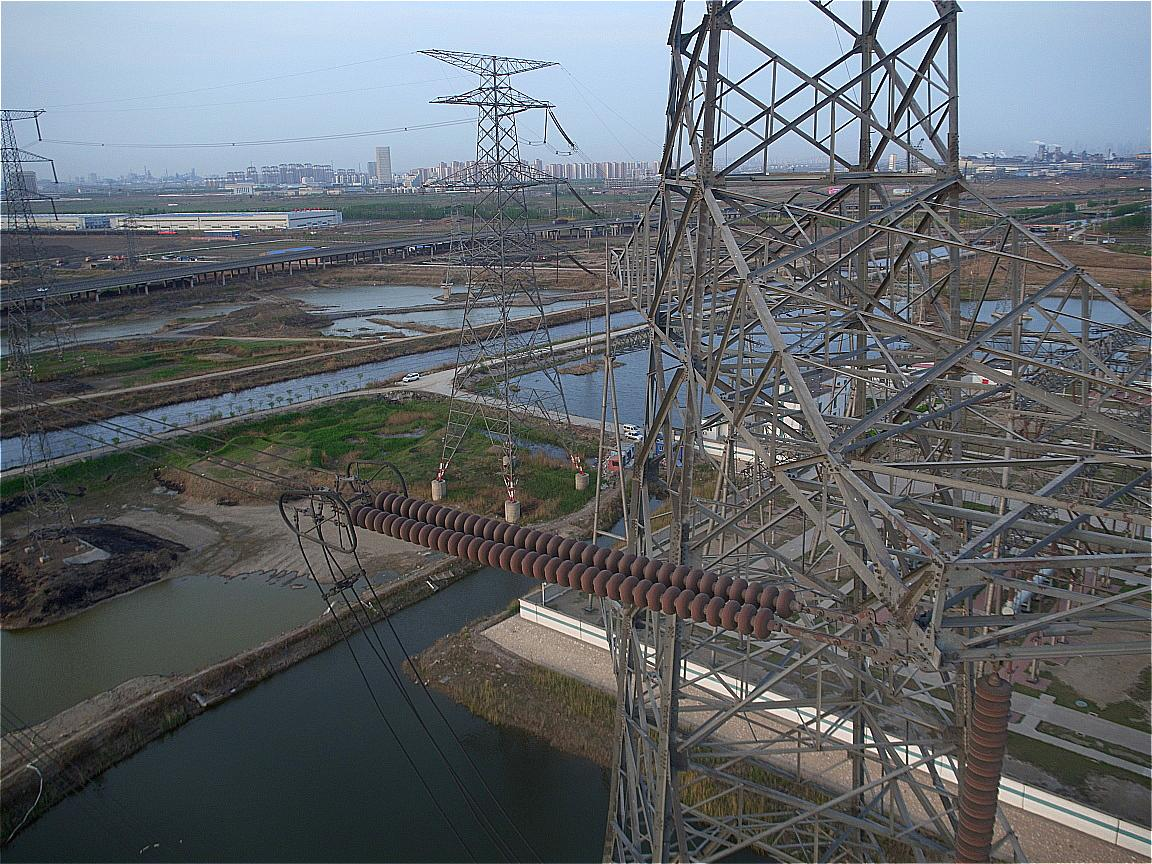insultor1: (349, 488, 796, 639)
insultor2: (949, 677, 1014, 861)
